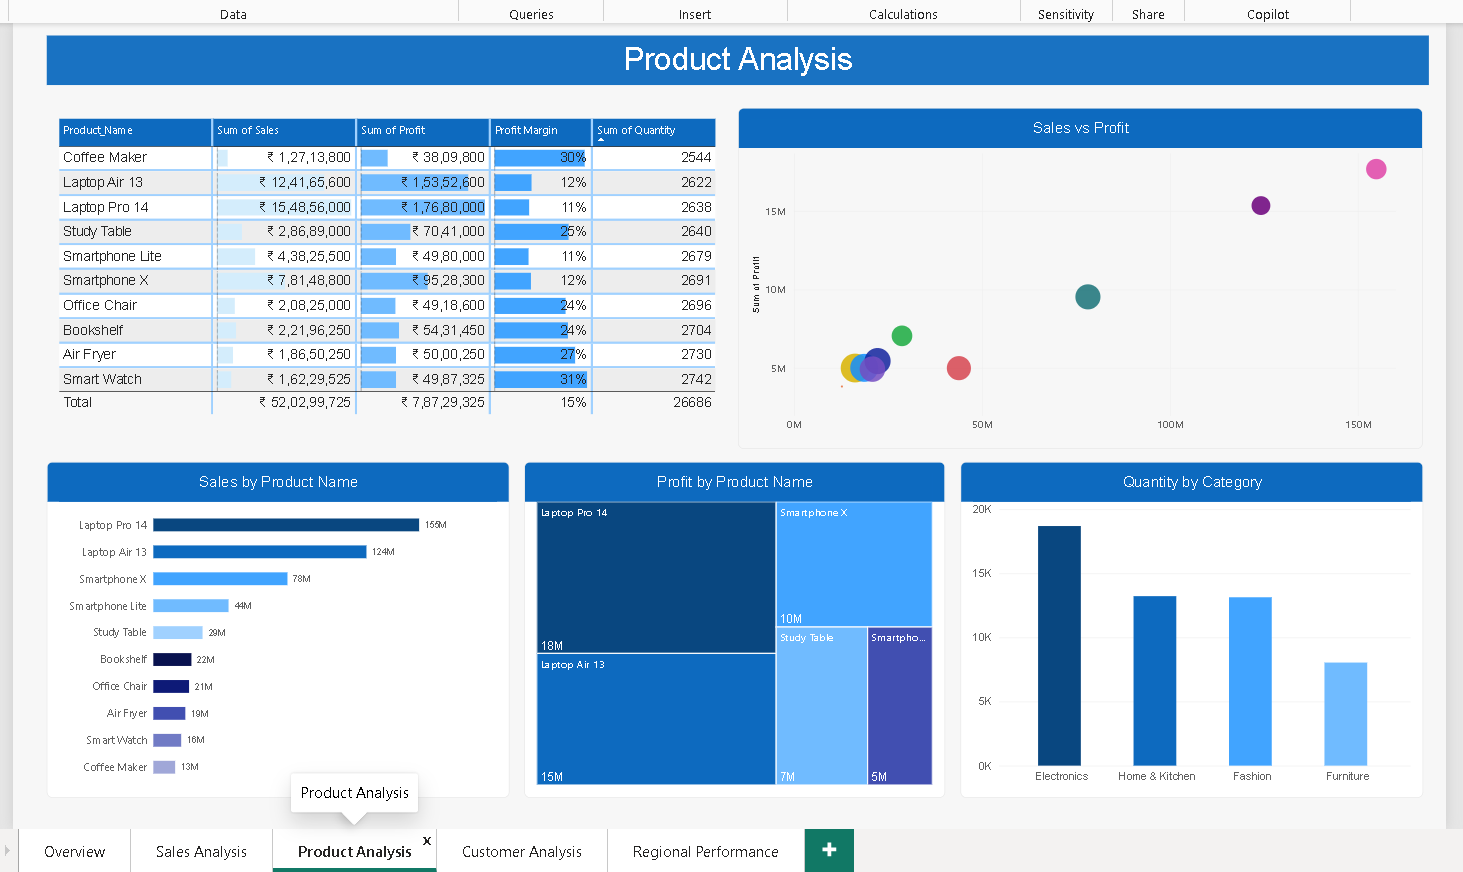

This screenshot's page, from the dashboard's own definition file:
{"tool":"powerbi","page":{"name":"Product Analysis","canvas":[1920,1080],"ordinal":2},"visuals":[{"type":"textbox","box":[45.3,17.4,1852.3,66.3],"z":0},{"type":"scatterChart","title":"Sales vs Profit","fields":{"Series":["Products.Product_Name"],"Size":["Sum(Sales_Data.Quantity)"],"X":["Sales_Data.Sales"],"Y":["Sum(Sales_Data.Profit)"]},"box":[971.5,113.4,917.4,457],"z":1000},{"type":"clusteredBarChart","title":"Sales by Product Name","fields":{"Category":["Sales_Data.Product_Name"],"Y":["Sum(Sales_Data.Sales)"]},"box":[45.3,587.8,620,450],"z":1000,"group":"g1"},{"type":"tableEx","fields":{"Values":["Sales_Data.Product_Name","Sum(Sales_Data.Sales)","Sum(Sales_Data.Profit)","Sales_Data.Profit Margin","Sum(Sales_Data.Quantity)"]},"box":[45.3,113.4,914,457],"z":2000},{"type":"treemap","title":" Profit by Product Name","fields":{"Group":["Sales_Data.Product_Name"],"Values":["Sum(Sales_Data.Profit)"]},"box":[685.5,587.8,564,450],"z":2000,"group":"g1"},{"type":"group","id":"g1","title":"Group 1","box":[45.3,587.8,1844.4,450],"z":3000},{"type":"clusteredColumnChart","title":" Quantity by Category","fields":{"Category":["Sales_Data.Category"],"Y":["Sum(Sales_Data.Quantity)"]},"box":[1269.7,587.8,620,450],"z":3000,"group":"g1"}]}

Visuals, with their boxes on the page's 1920x1080 design canvas (x1, y1, x2, y2). These are canvas units, not pixel positions in the 1463x872 screenshot, which may show the page scaled, cropped or inside an application window:
textbox: select_region(45, 17, 1898, 84)
"Sales vs Profit" scatterChart: select_region(972, 113, 1889, 570)
"Sales by Product Name" clusteredBarChart: select_region(45, 588, 665, 1038)
tableEx - Sales_Data.Product_Name x Sum(Sales_Data.Sales): select_region(45, 113, 959, 570)
" Profit by Product Name" treemap: select_region(686, 588, 1250, 1038)
"Group 1" group: select_region(45, 588, 1890, 1038)
" Quantity by Category" clusteredColumnChart: select_region(1270, 588, 1890, 1038)
